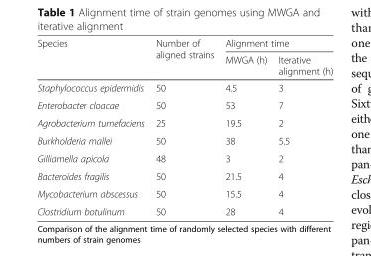table: (36, 37, 332, 216)
table column: (36, 37, 149, 216), (149, 37, 219, 216), (272, 37, 332, 216), (219, 37, 272, 216)
table column header: (36, 37, 332, 78)
table row: (36, 50, 332, 78), (36, 78, 332, 96), (36, 113, 332, 131), (36, 131, 332, 149), (36, 166, 332, 184), (36, 184, 332, 202), (36, 96, 332, 113), (36, 149, 332, 166), (36, 202, 332, 216), (36, 37, 332, 50)
table spanning cell: (36, 37, 149, 78), (149, 37, 219, 78), (219, 37, 332, 50)
